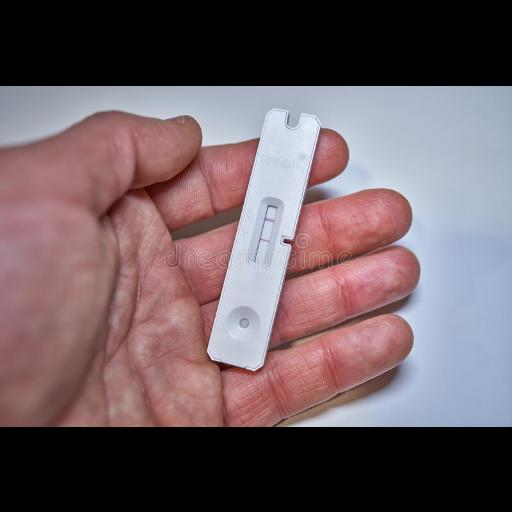Pos: (205, 105, 324, 374)
